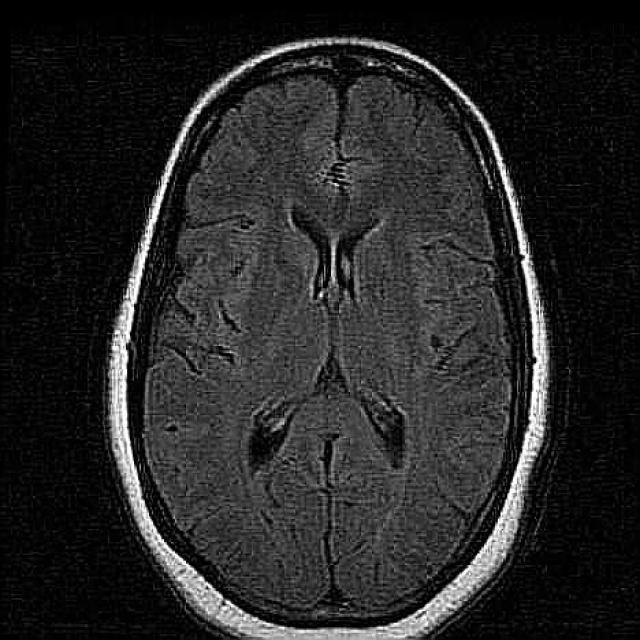No_Tumor: (107, 38, 547, 639)
